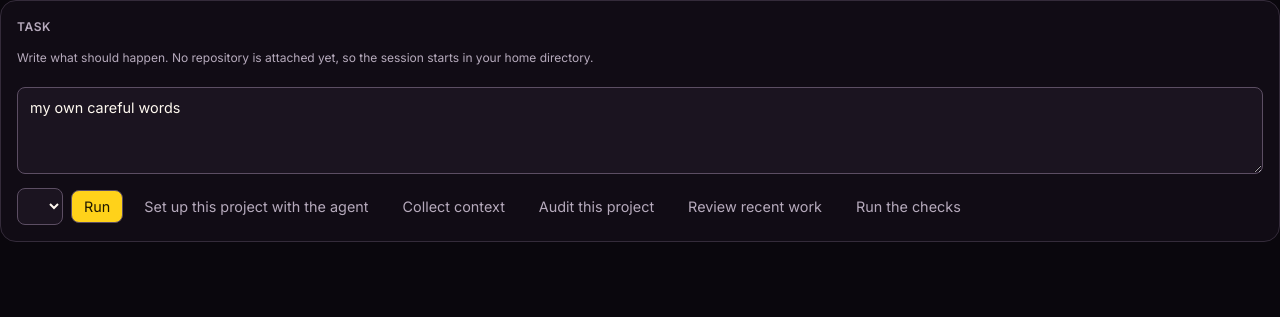
a shortcut over the person’s own words › replaces at once and offers the old words back
Click the button "Audit this project": (596, 207) [526,190,667,223]
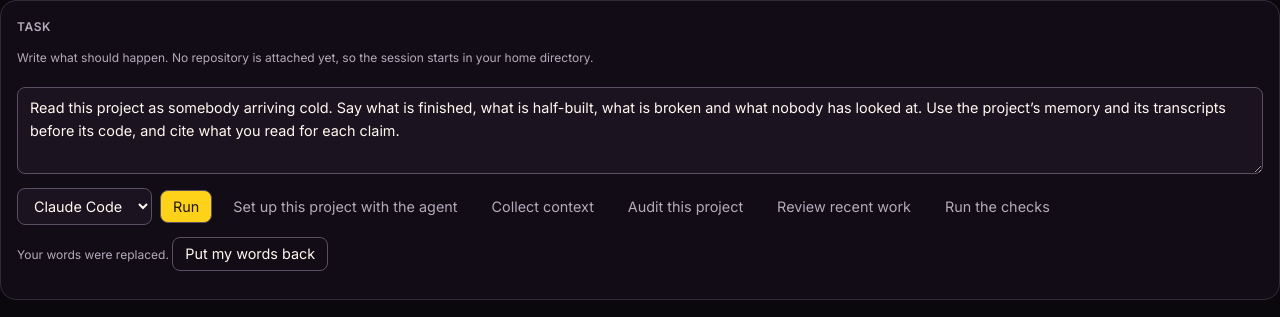
Expected: the field showing "my own careful words" is not shown
Click the button "Put my words back": (250, 254) [172,238,328,270]
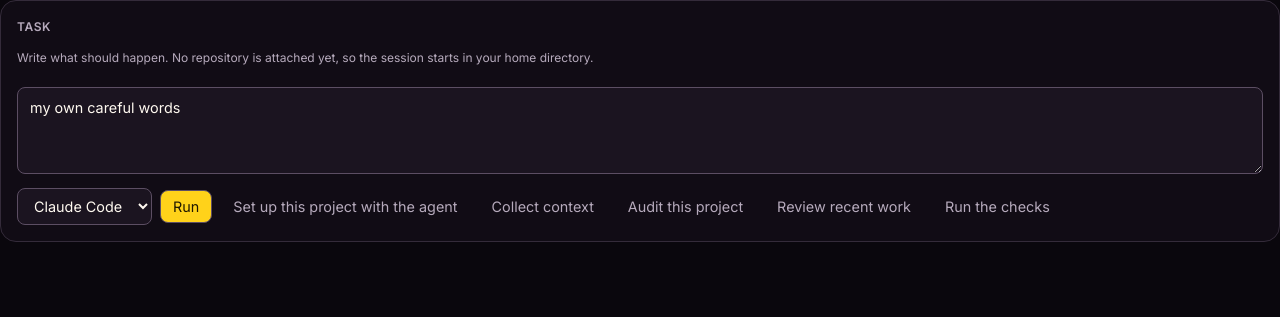
Result: the text box showing "my own careful words" is shown at [17,87,1263,174]
